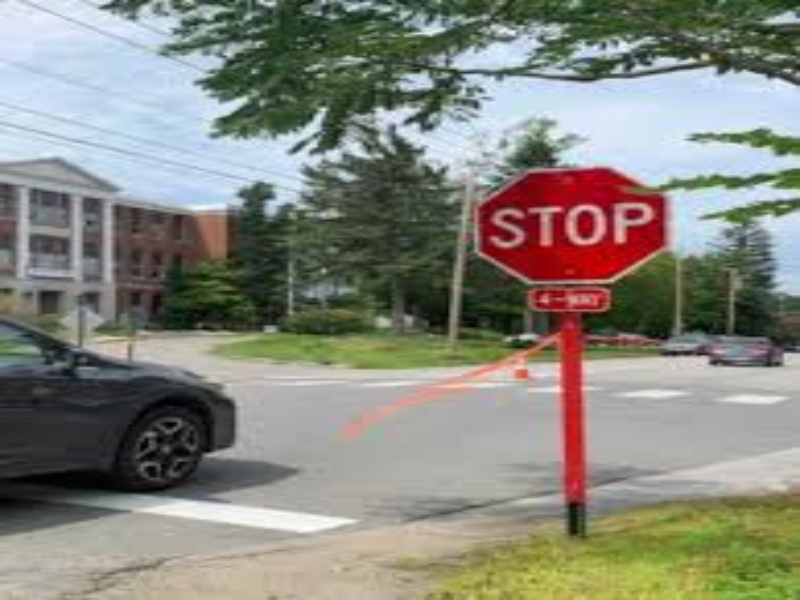Stop_Sign: (477, 165, 665, 288)
